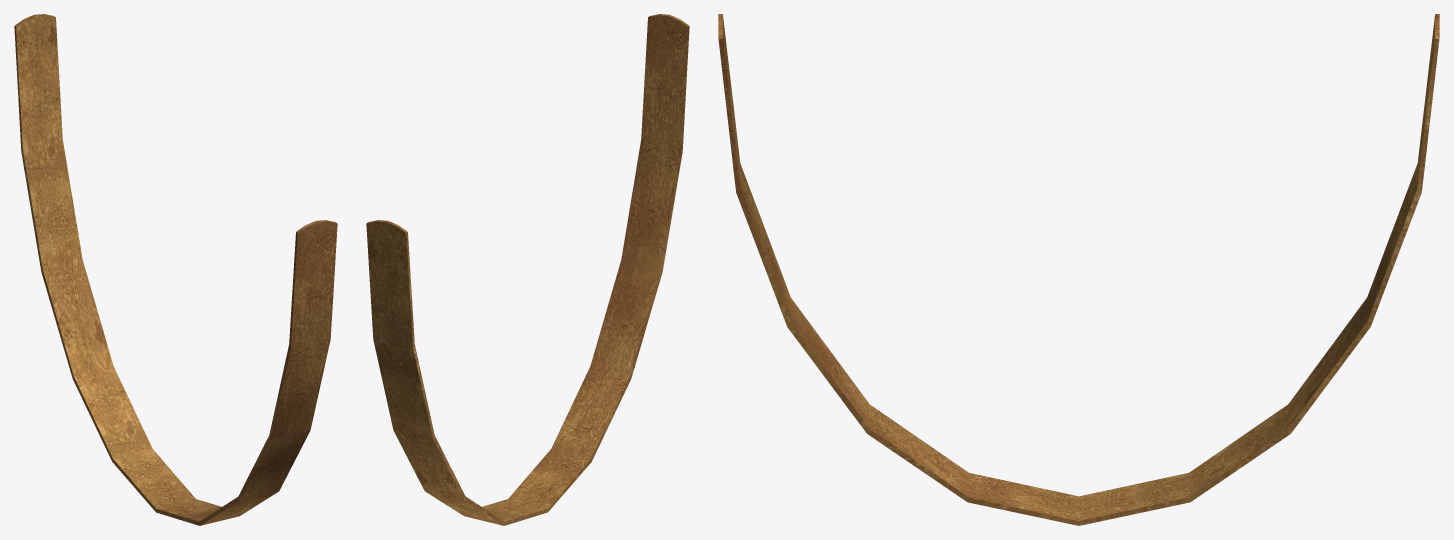
The model's file is swivel_only.fbx.
The picture shows the model from 3 angles, left to right: view 1: azimuth 30°, elevation 25°; view 2: azimuth 150°, elevation 25°; view 3: azimuth 270°, elevation 25°; orthographic projection. The views are drawn at different scales.
Parts seen in each view (by area): view 1: polySurface162; view 2: polySurface162; view 3: polySurface162.
Part boxes in pixels (<box>): polySurface162: <box>14,14,337,525</box>; polySurface162: <box>366,14,689,525</box>; polySurface162: <box>718,14,1439,525</box>.
Bounding box in the file's own units: 0.1111 × 1.04 × 1.37.
Materials: 1 (1 with a texture image).
